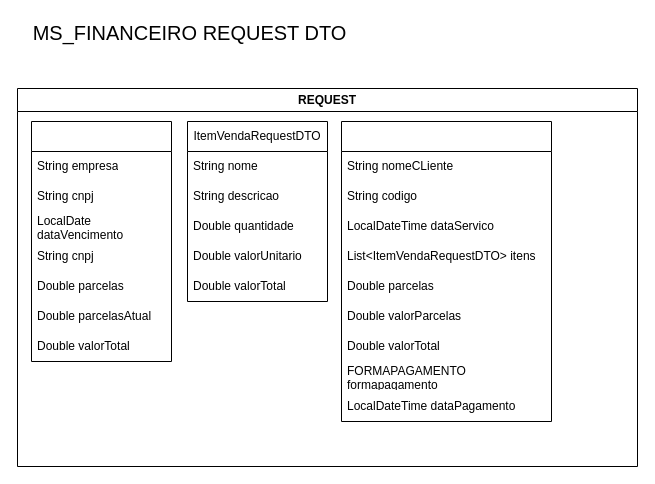
Some shapes in this 655 by 484 pixel diagram are drawn without their labels. Each missing label, with the box of its shape:
BoletosRequestDTO: (30, 120, 172, 362)
VendaRequestFinalziadaDTO: (340, 120, 552, 422)
